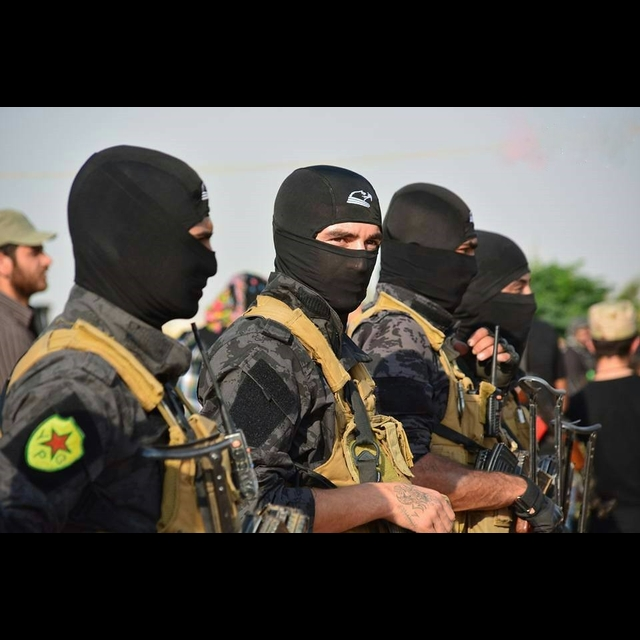YPG: (24, 410, 90, 473)
